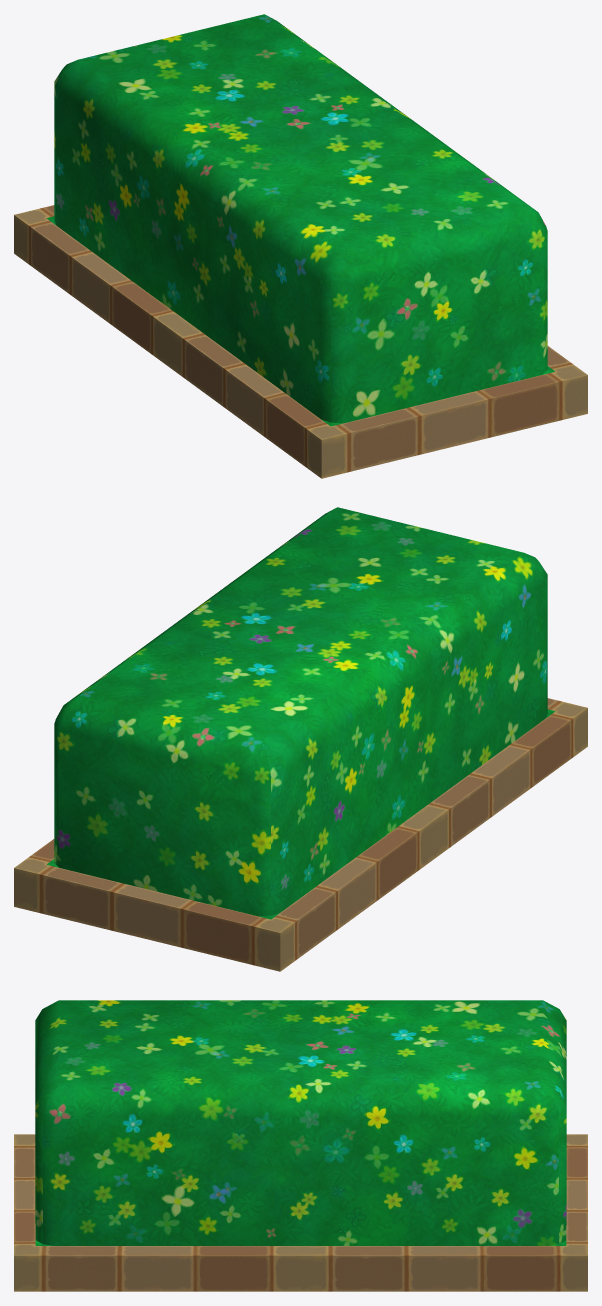
Rendered from Plant02_e05.FBX.
The picture shows the model from 3 angles, top to bottom: view 1: azimuth 30°, elevation 25°; view 2: azimuth 150°, elevation 25°; view 3: azimuth 270°, elevation 25°; orthographic projection. The views are drawn at different scales.
Visible parts, largest first — view 1: Plant02_e05; view 2: Plant02_e05; view 3: Plant02_e05.
Part boxes in pixels (x1,y1,x2,y2): Plant02_e05: [14, 14, 587, 478]; Plant02_e05: [14, 507, 587, 971]; Plant02_e05: [14, 1000, 587, 1291].
Bounding box in the file's own units: 339 × 245 × 678.
Materials: 2 (2 with a texture image).
